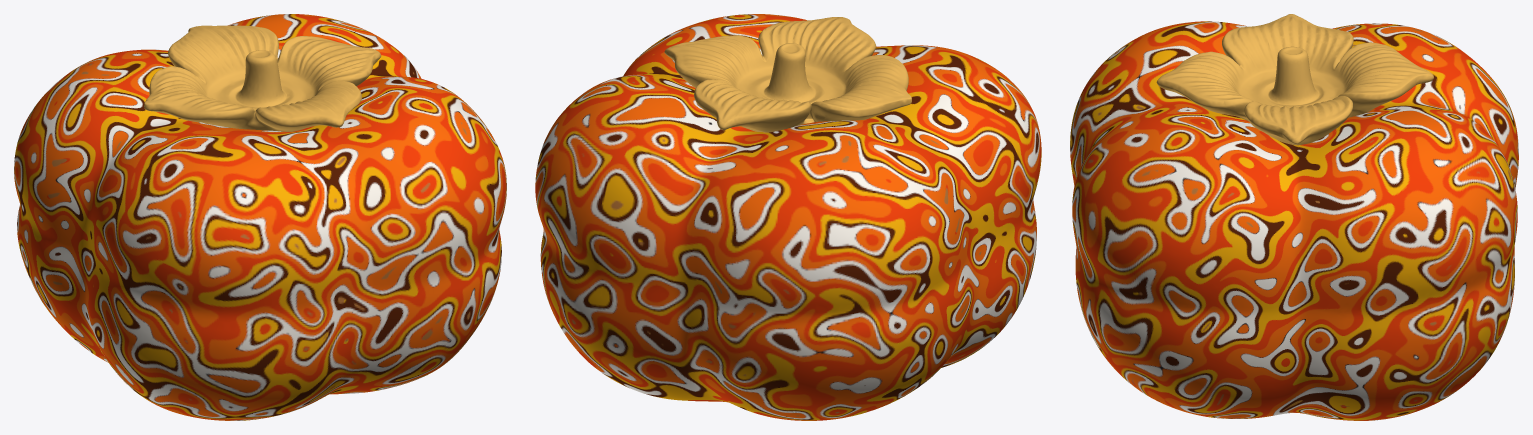
The model's file is persimmon.glb.
3 views of the same model, side by side, from view 1: azimuth 30°, elevation 25°; view 2: azimuth 150°, elevation 25°; view 3: azimuth 270°, elevation 25° (orthographic). The views are drawn at different scales.
Visible parts, largest first — view 1: persimmon_Body0, persimmon_Accent1; view 2: persimmon_Body0, persimmon_Accent1; view 3: persimmon_Body0, persimmon_Accent1.
Boxes of the visible parts, x1=… form: persimmon_Body0: x1=14, y1=14, x2=506, y2=420; persimmon_Accent1: x1=144, y1=25, x2=381, y2=131; persimmon_Body0: x1=535, y1=14, x2=1041, y2=420; persimmon_Accent1: x1=664, y1=17, x2=911, y2=132; persimmon_Body0: x1=1070, y1=21, x2=1518, y2=420; persimmon_Accent1: x1=1156, y1=14, x2=1433, y2=145.
Bounding box in the file's own units: 1.8 × 1.38 × 1.8.
Materials: 2 (1 with a texture image).
